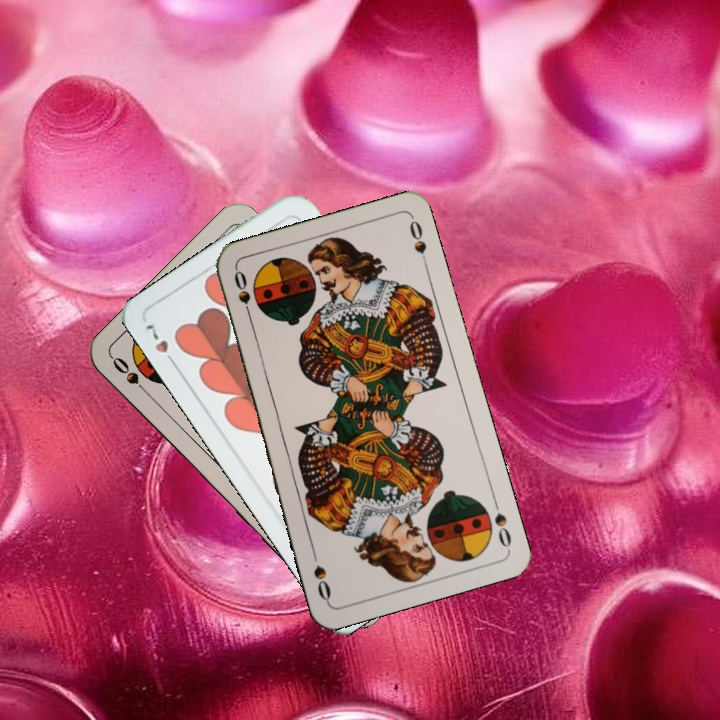H7: (141, 320, 180, 370)
SO: (108, 352, 154, 401), (230, 266, 255, 325), (489, 494, 514, 550)
